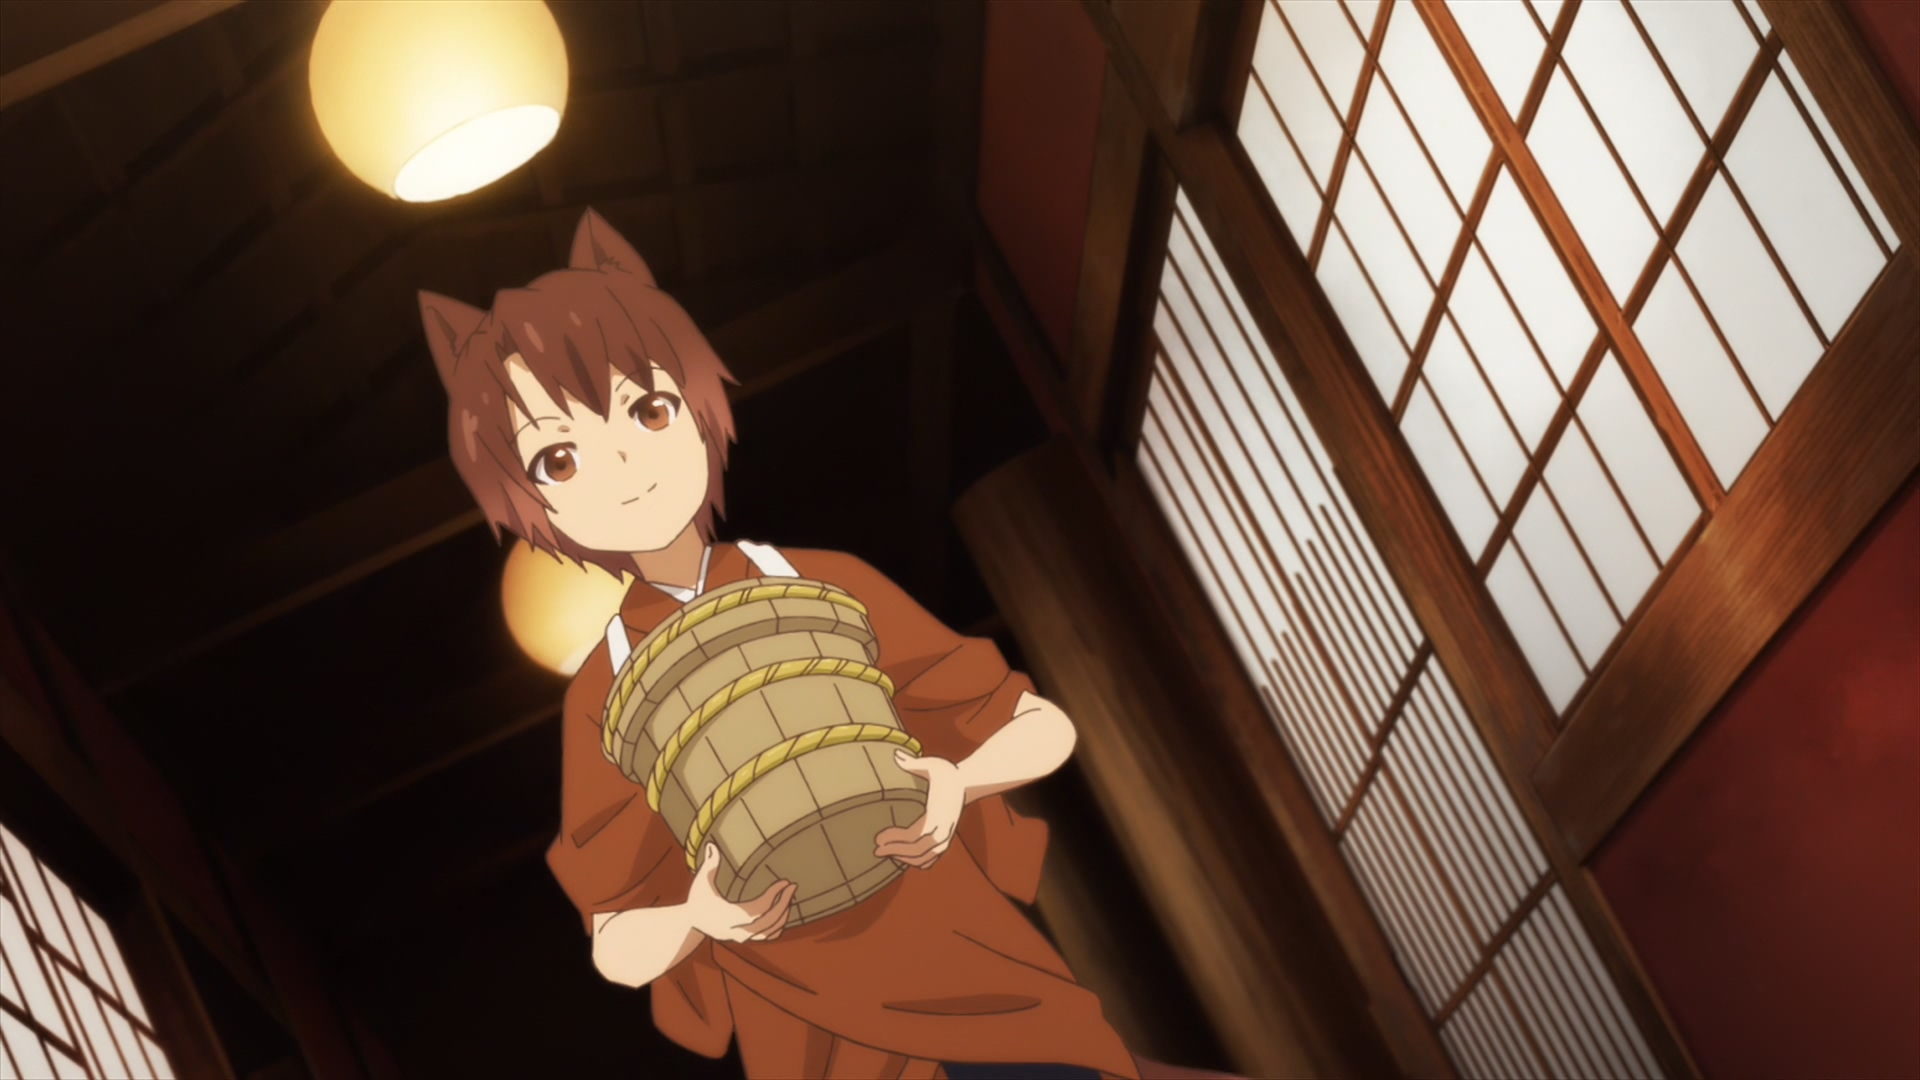枣: (415, 206, 1145, 1080)
